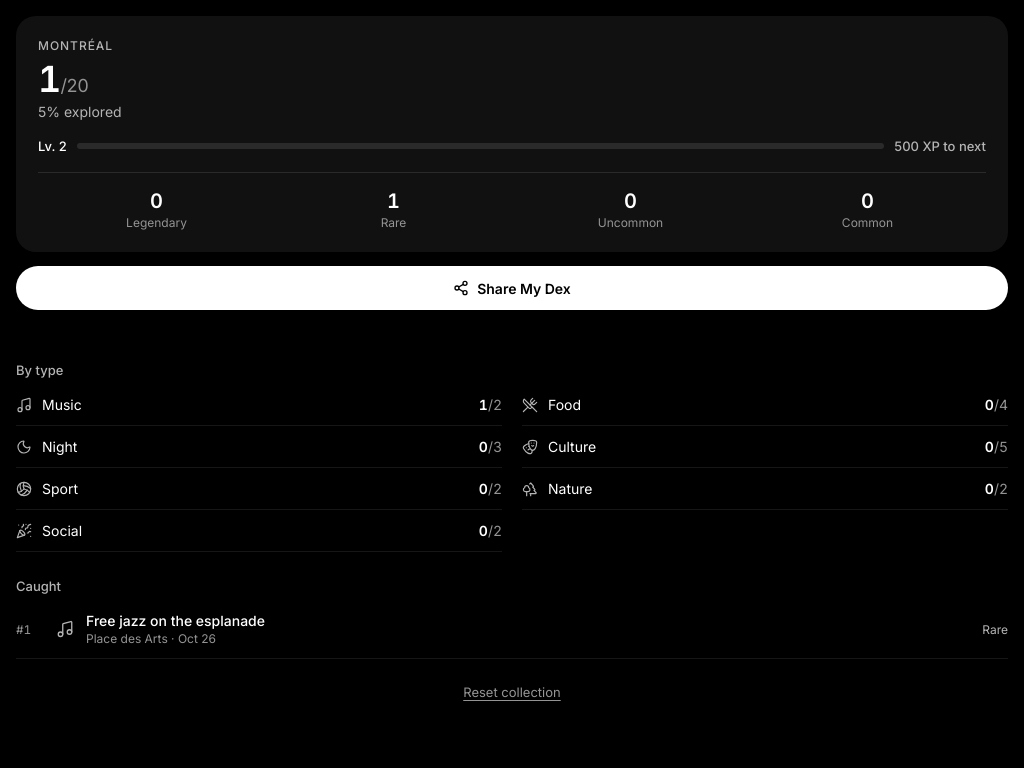
Test case: DexView sharing › says so when the image cannot be created
The image size is (1024, 768).
Click the button "Share My Dex" at (512,288), box [16,266,1008,310]
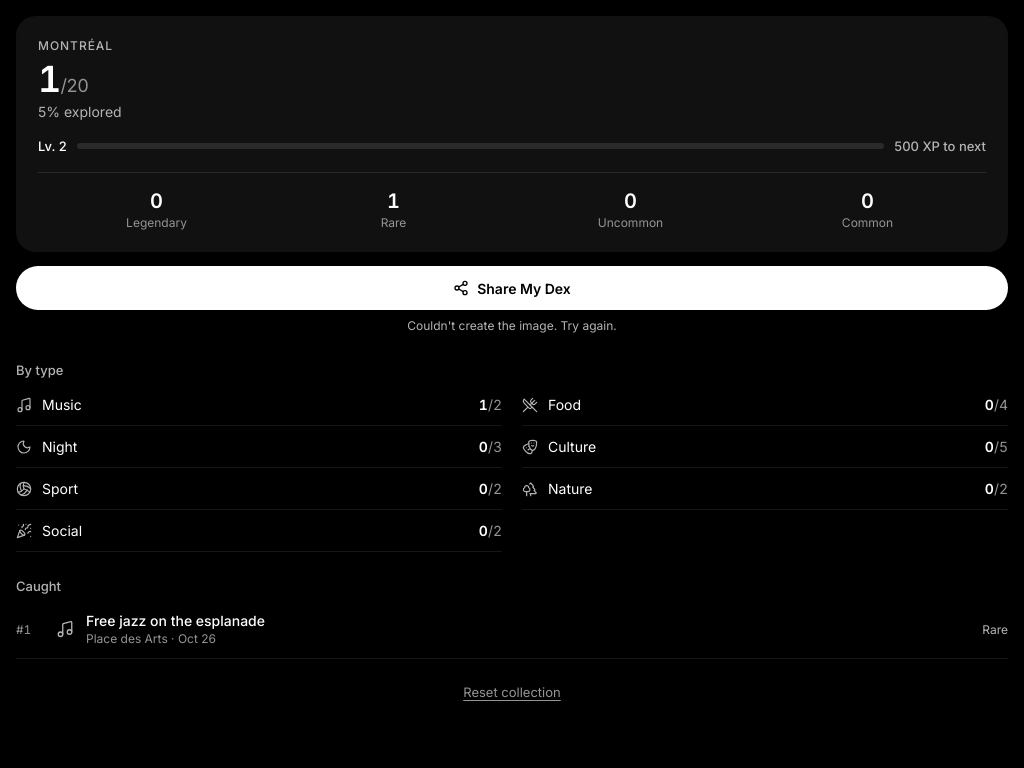
Check: the text "Couldn't create the image. Try again." is shown, box [407,318,617,333]
